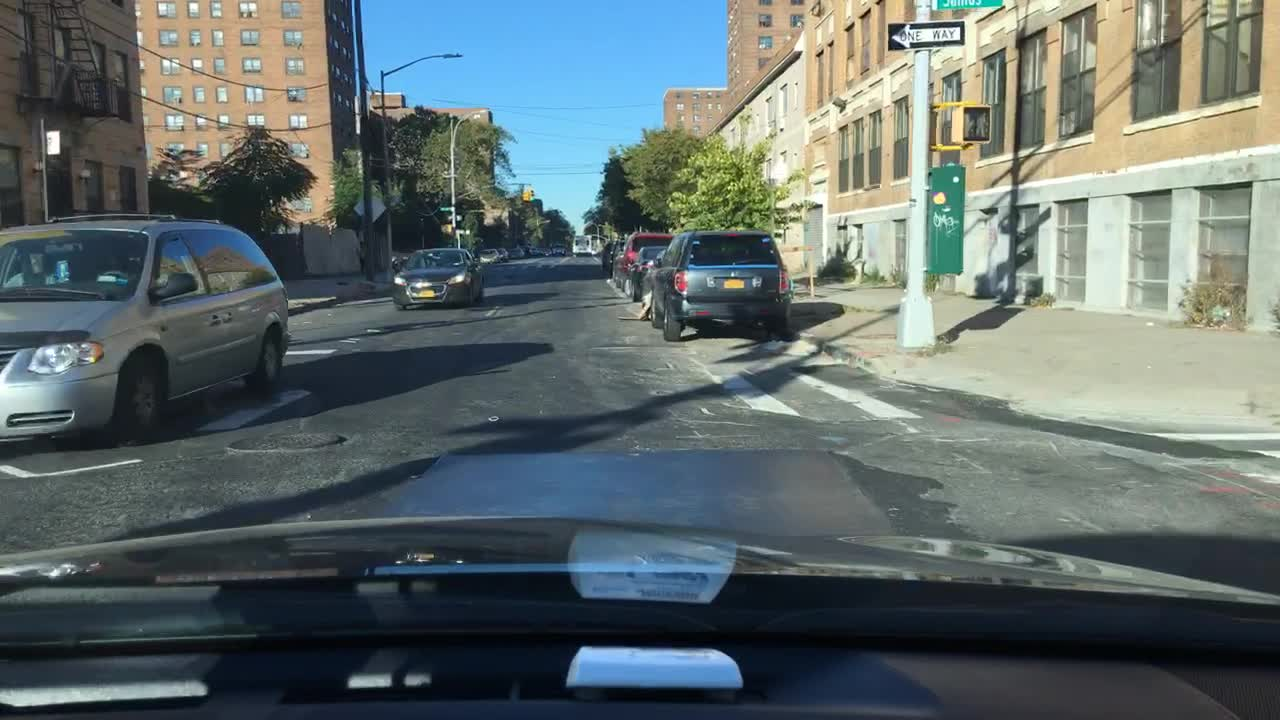car: (0, 208, 291, 445), (647, 228, 792, 340), (390, 248, 483, 309), (614, 230, 674, 292), (625, 244, 665, 300), (602, 238, 623, 276), (477, 247, 500, 264), (571, 234, 590, 254), (527, 242, 542, 257), (512, 244, 526, 260), (553, 242, 566, 259), (499, 245, 510, 263), (544, 245, 552, 257)
traffic light: (949, 99, 992, 143), (441, 219, 456, 236), (521, 184, 534, 203)
traffic sign: (885, 18, 966, 49), (352, 191, 386, 224), (932, 0, 1007, 10), (43, 128, 63, 155), (440, 203, 453, 212)
